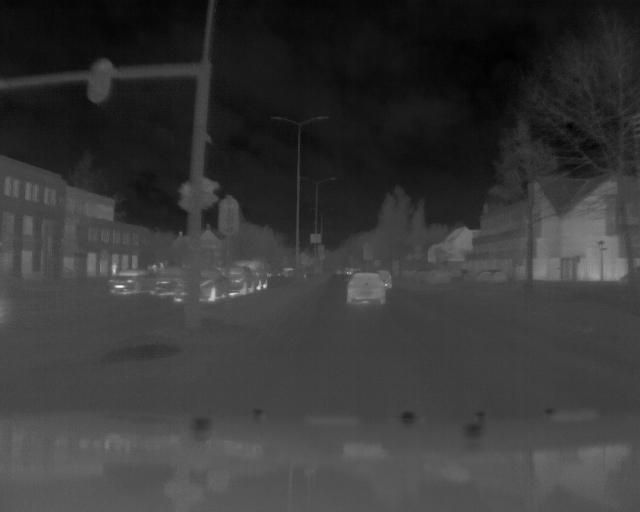car: (173, 268, 231, 307), (344, 272, 387, 307), (108, 269, 152, 298), (228, 266, 256, 293)
